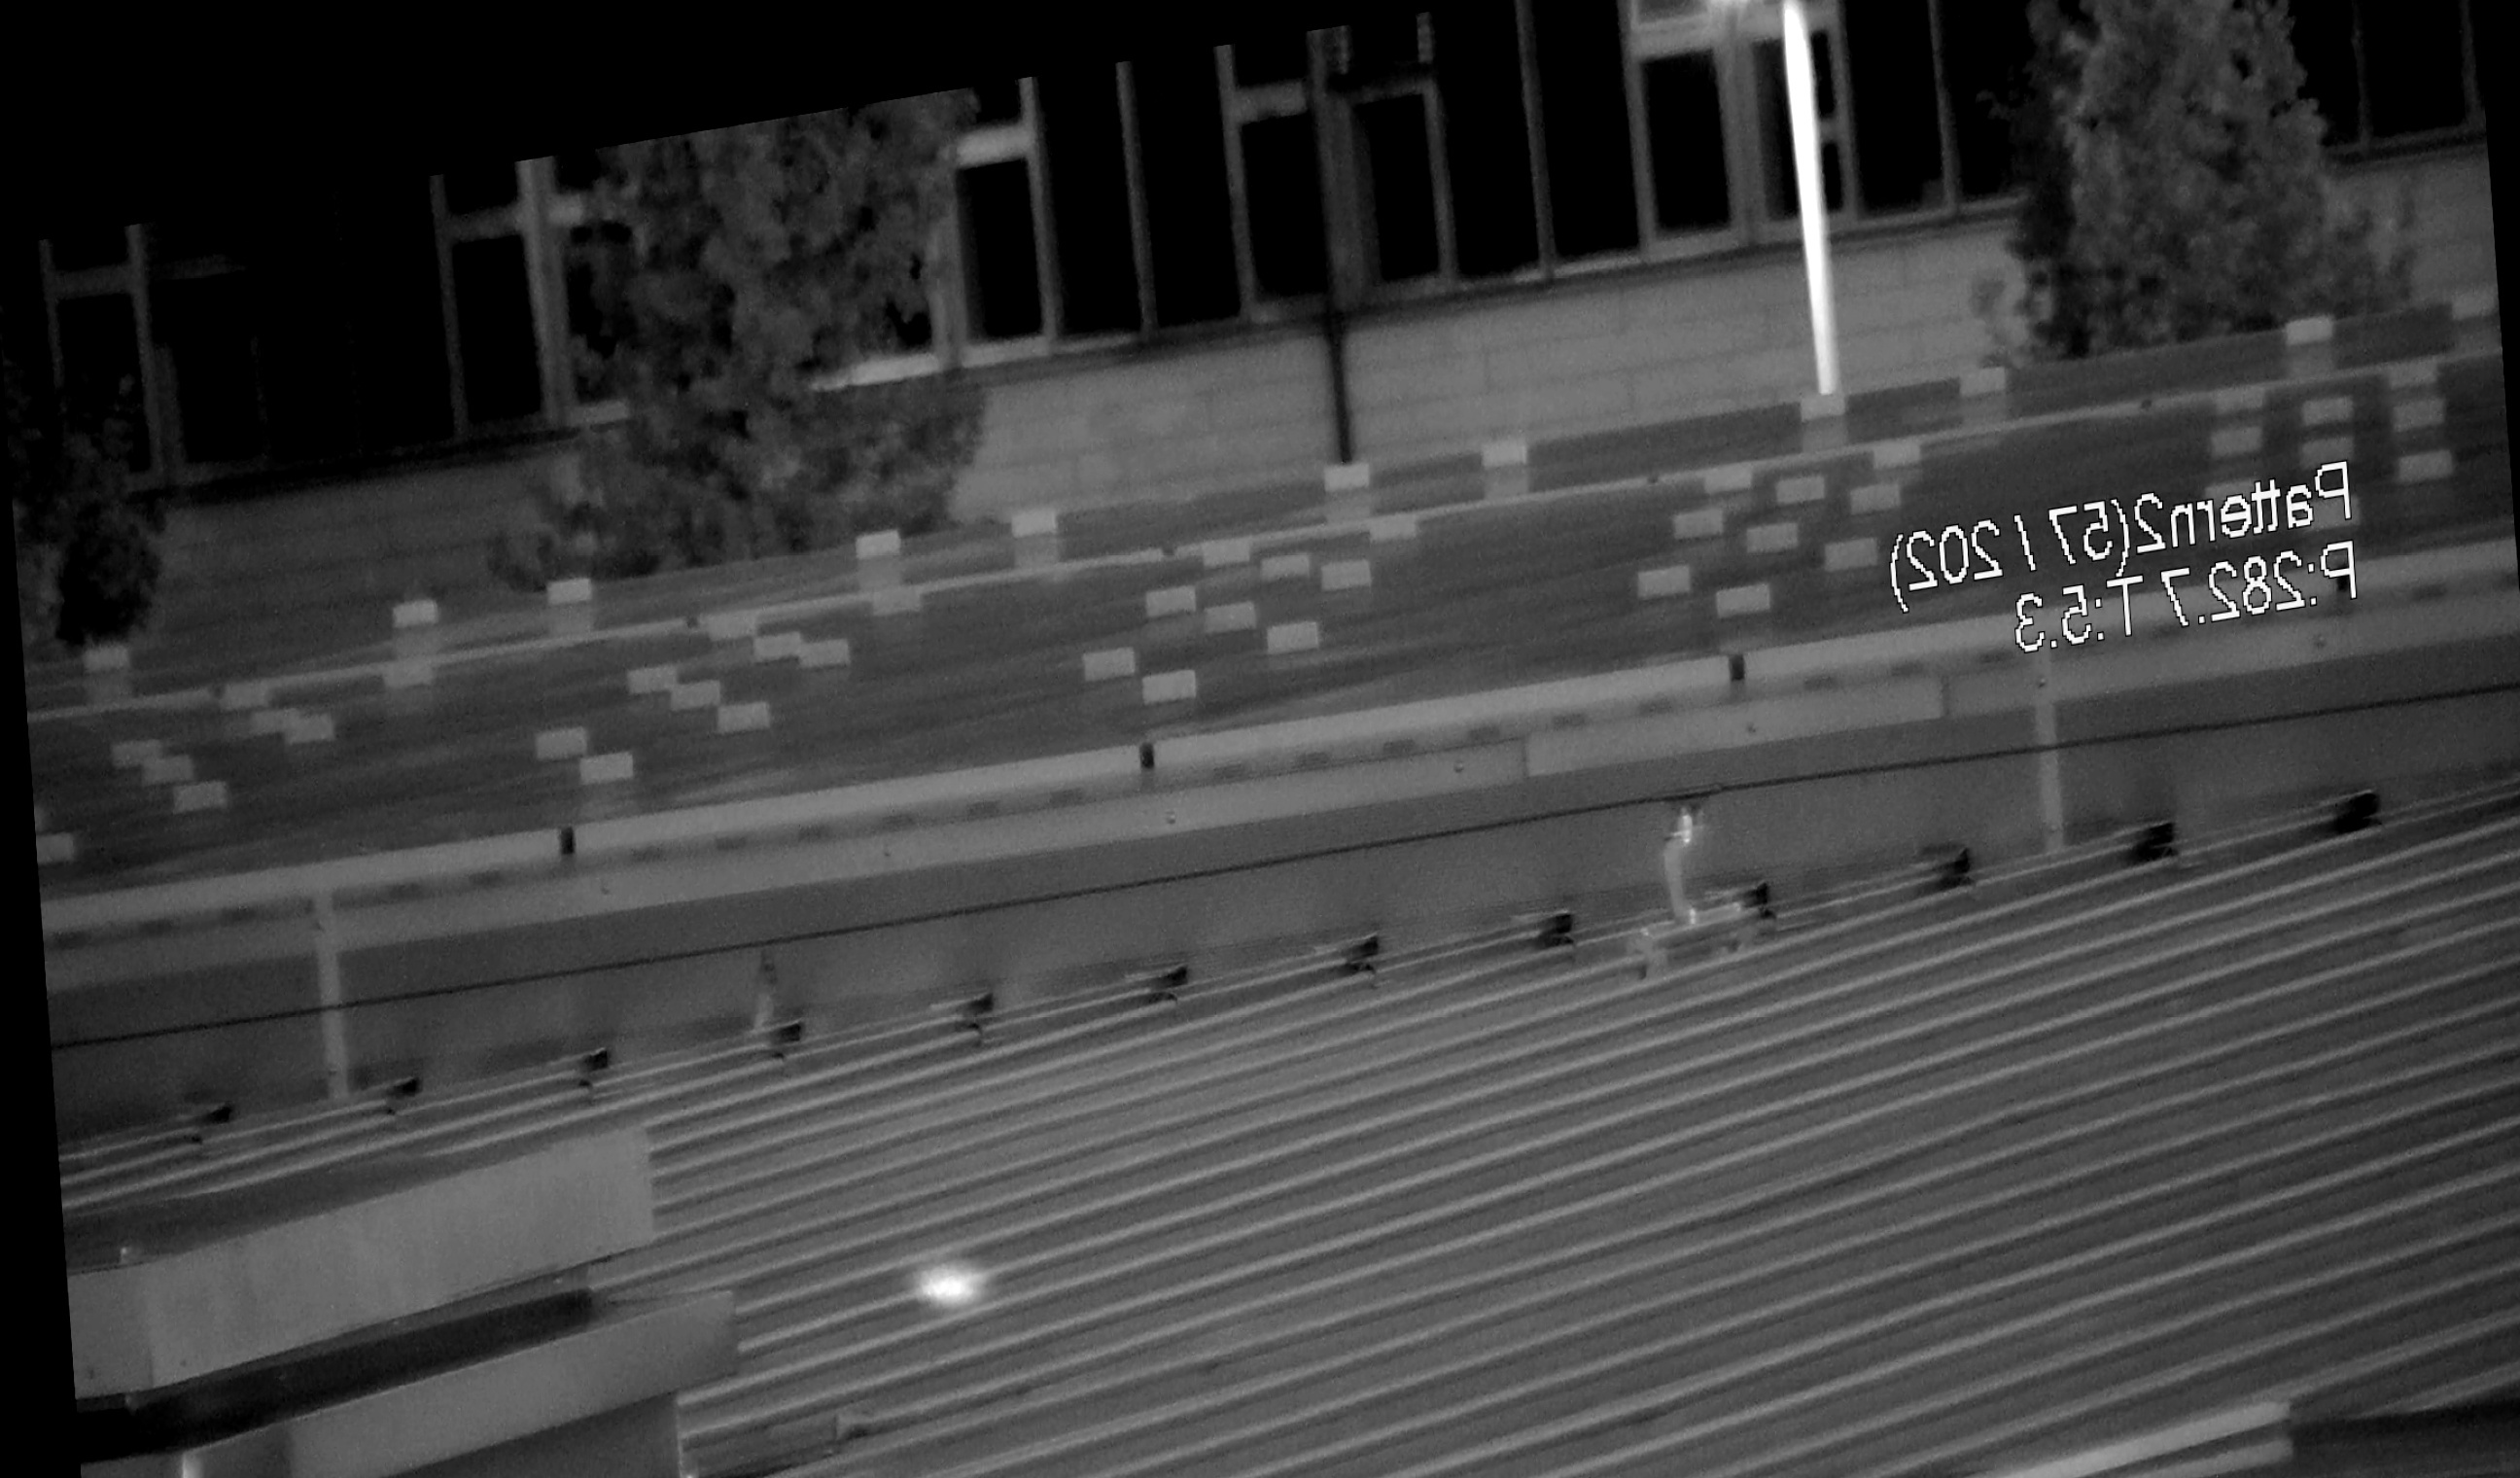Other: (728, 938, 805, 1070)
